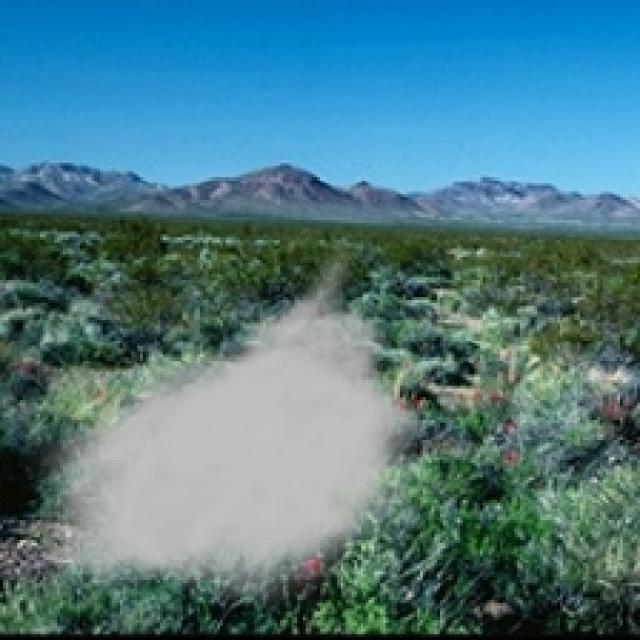smoke: (20, 234, 437, 609)
